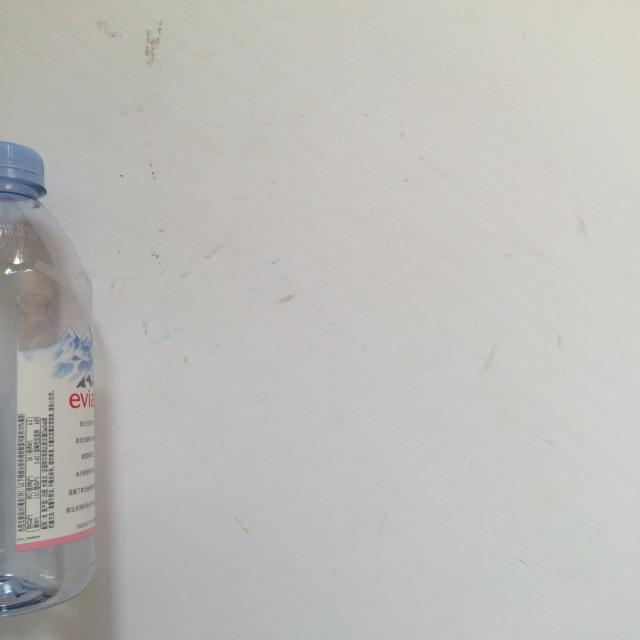plastic: (0, 140, 97, 616)
